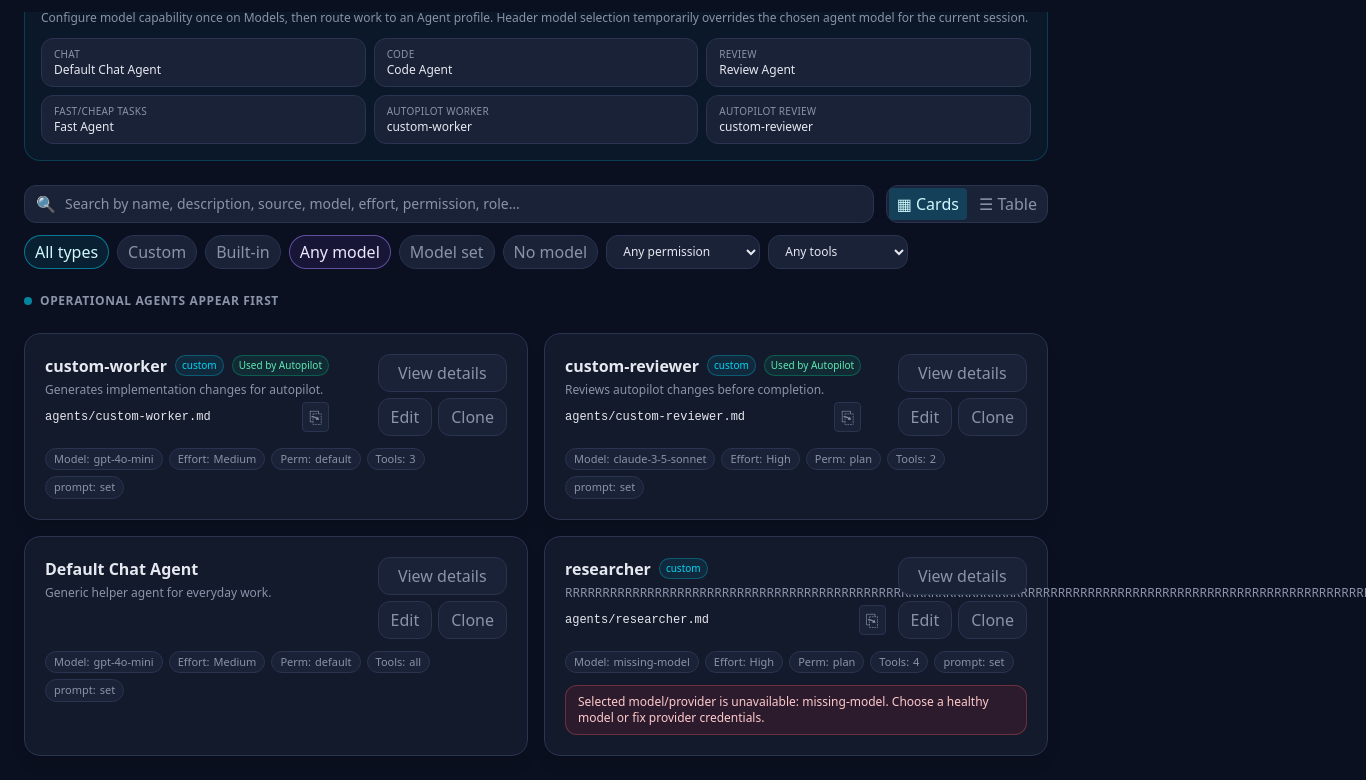
Test case: AgentsSettingsPage › shows error toast when PATCH fails
The width and height of the screenshot is (1366, 780).
(page scrolled)
Expected: the text "Default Chat Agent" is shown, 54,60 -> 161,78
Click the button "Edit" below "Generic helper agent for everyday work.".
click(405, 620)  # box 378,600 -> 432,638
(page scrolled)
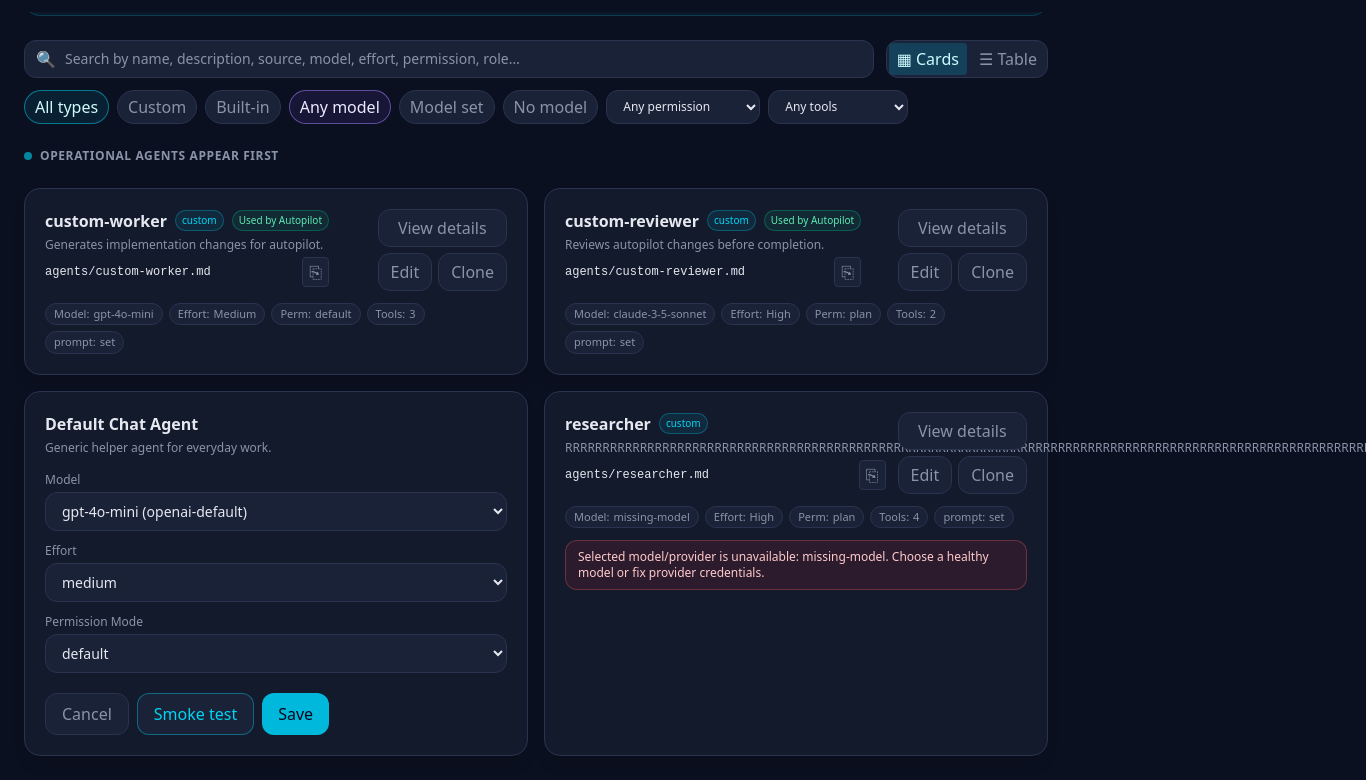
Now the element with test id "editor-Default Chat Agent" is shown, box 45,472 -> 507,734
Click the button "Save".
click(296, 714)  # box 262,692 -> 329,734
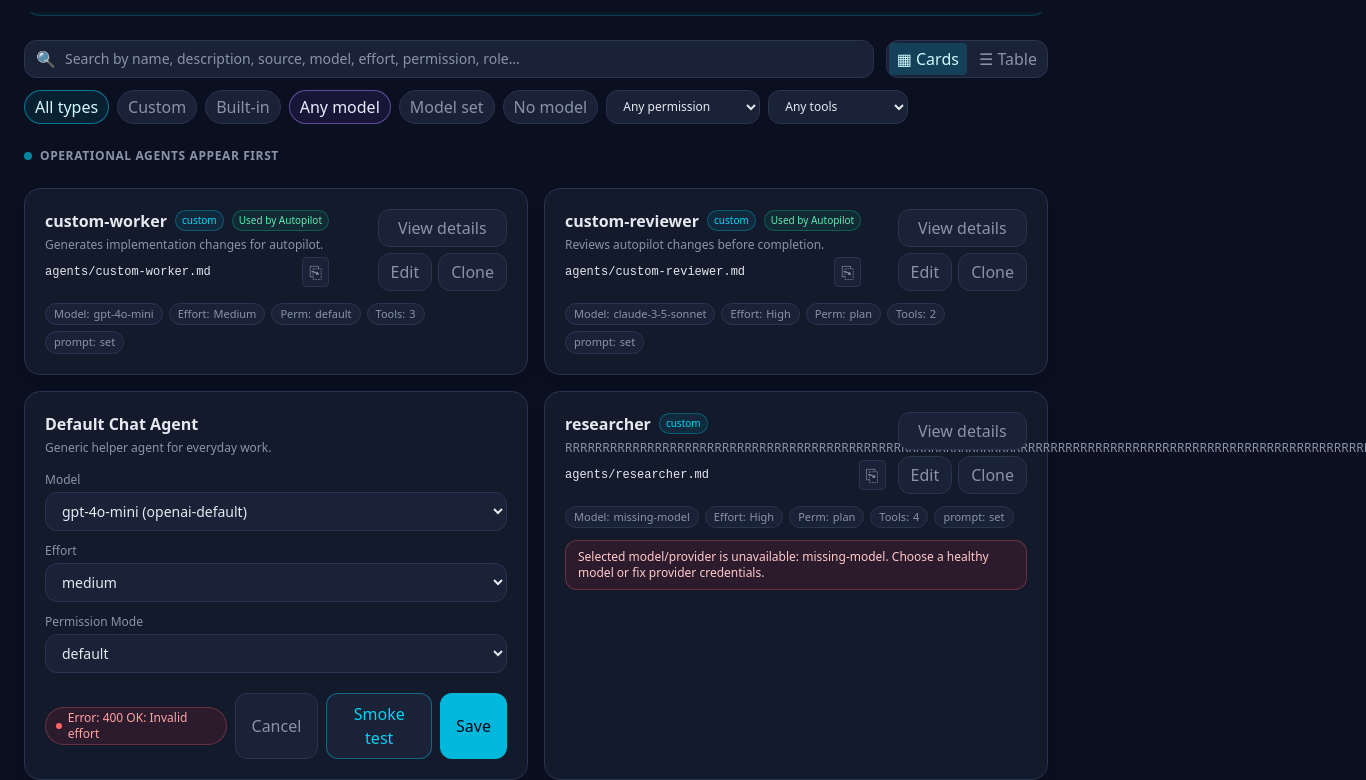
Now the message "Error: 400 OK: Invalid effort" is shown, box 45,706 -> 226,744
Now the message reads "Error: 400 OK: Invalid effort", box 68,708 -> 187,742
